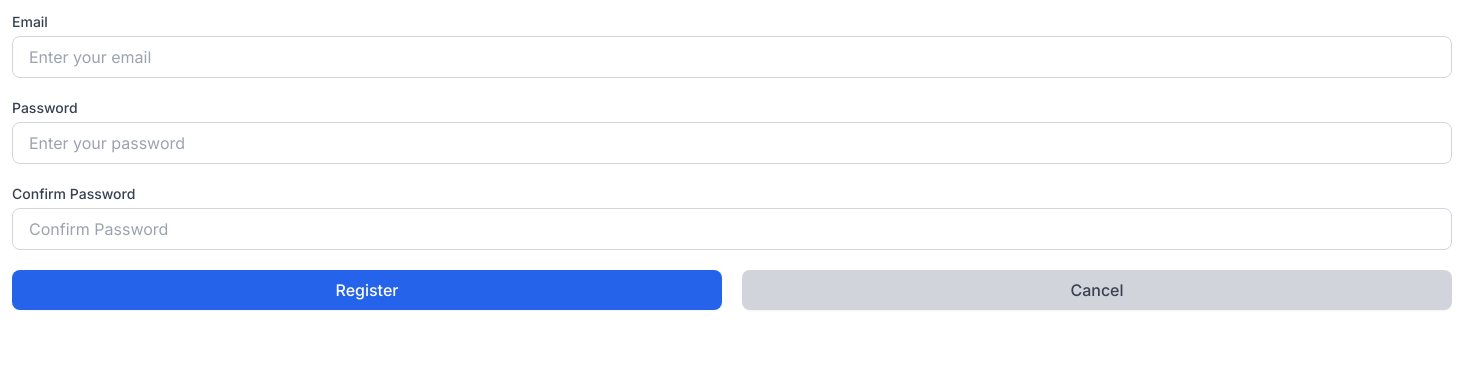
RegisterForm › shows error if email is invalid
Type "invalid-email" into the field with placeholder "Enter your email" at {"x": 732, "y": 57}, box top-left (12, 36), bottom-right (1452, 78)
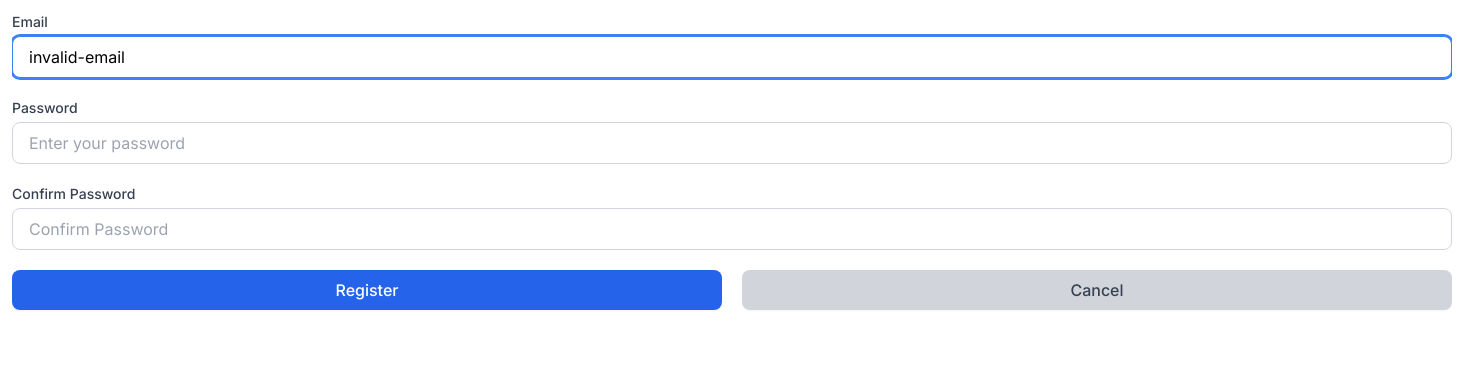
Submit the form named "register form"
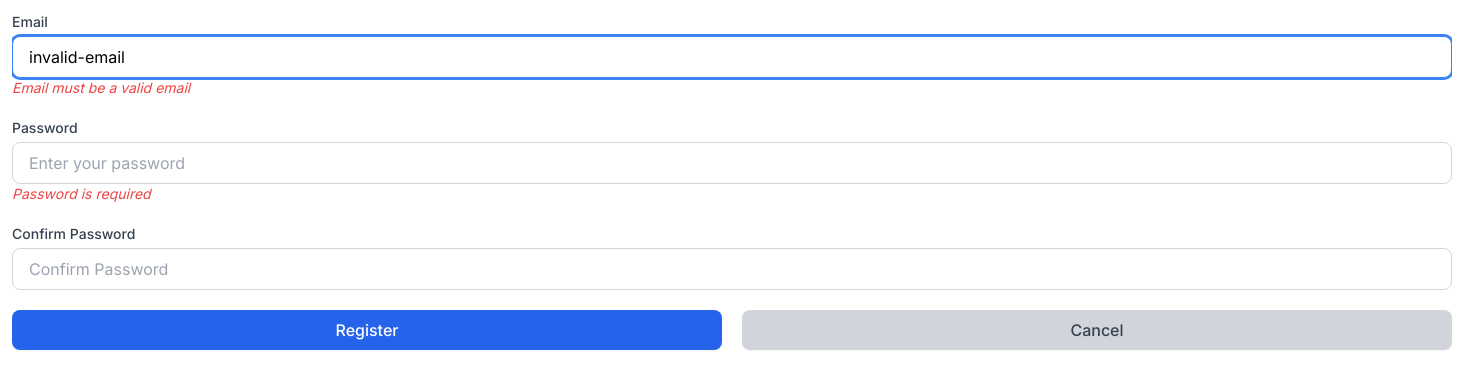
Expected: the text "Email must be a valid email" is shown, top-left (12, 79), bottom-right (190, 96)
